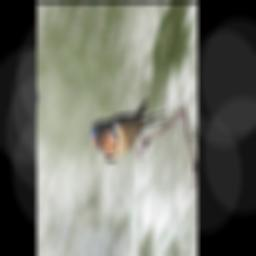Swallow: (84, 78, 169, 184)
